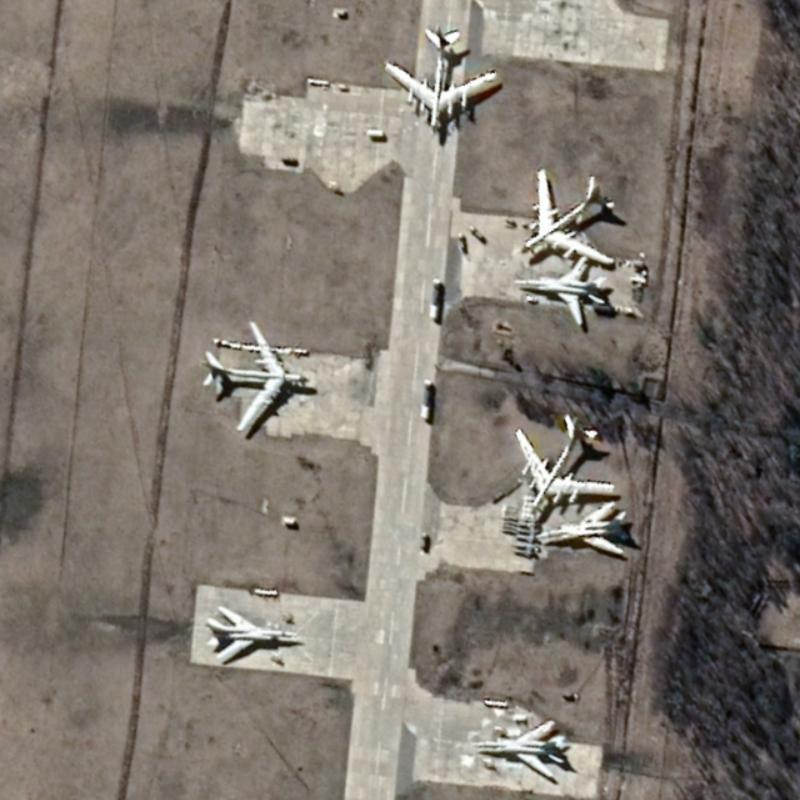A12: (511, 253, 606, 326), (471, 718, 566, 778), (203, 603, 298, 663), (532, 498, 630, 555)
A17: (381, 25, 498, 136), (199, 318, 311, 433), (511, 411, 616, 516), (518, 165, 616, 268)
